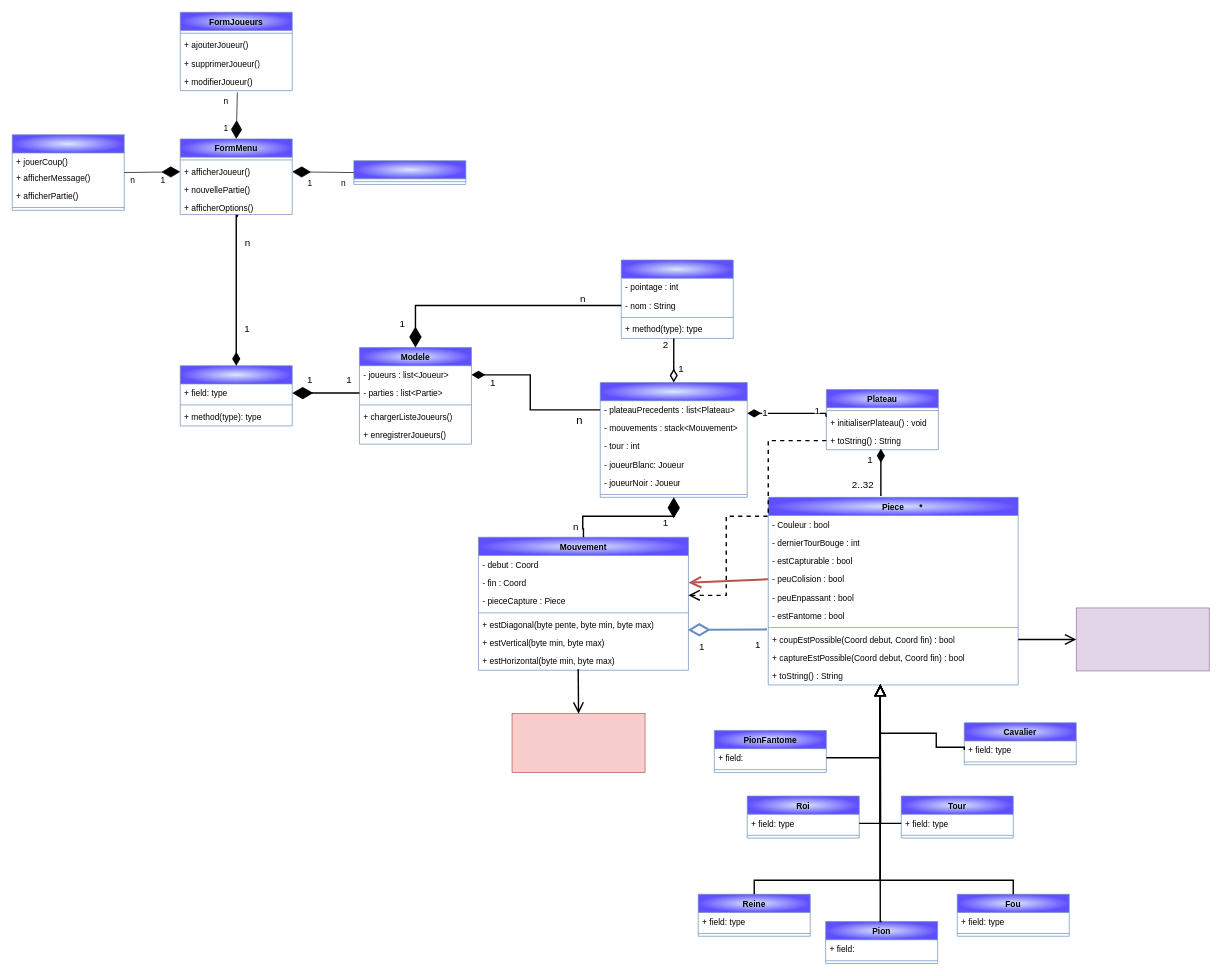
The diagram is 1222 pixels wide and 976 high, and some of its shapes have lost their labels. Each missing label, with the box of its shape:
<<Enum>> Couleur Blanc Noir: (1076, 607, 1209, 671)
<<Struct>> Coord + x: byte + y: byte: (511, 713, 645, 772)
FormOptions: (353, 160, 466, 184)
FormPartie: (12, 134, 124, 210)
JeuEchecs: (180, 365, 292, 426)
Joueur: (621, 259, 733, 338)
Partie: (600, 382, 747, 497)
